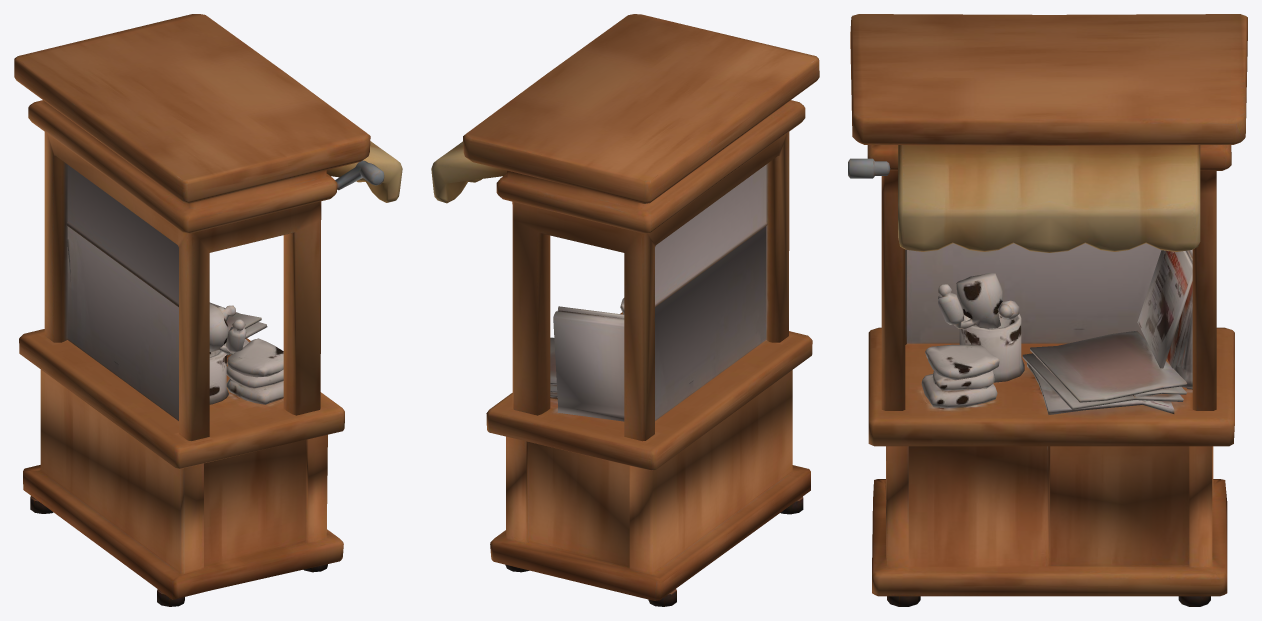
Rendered from news-stand.glb.
The picture shows the model from 3 angles, left to right: view 1: azimuth 30°, elevation 25°; view 2: azimuth 150°, elevation 25°; view 3: azimuth 270°, elevation 25°; orthographic projection. The views are drawn at different scales.
Visible parts, largest first — view 1: tripo_node_94b9b12b-dad3-4a35-ba96-c6bd5e33ba3d; view 2: tripo_node_94b9b12b-dad3-4a35-ba96-c6bd5e33ba3d; view 3: tripo_node_94b9b12b-dad3-4a35-ba96-c6bd5e33ba3d.
Part boxes in pixels (x1,y1,x2,y2): tripo_node_94b9b12b-dad3-4a35-ba96-c6bd5e33ba3d: (14, 14, 402, 606); tripo_node_94b9b12b-dad3-4a35-ba96-c6bd5e33ba3d: (431, 14, 819, 606); tripo_node_94b9b12b-dad3-4a35-ba96-c6bd5e33ba3d: (848, 14, 1247, 606).
Bounding box in the file's own units: 0.5801 × 0.998 × 0.7207.
1 material, 1 textured.
